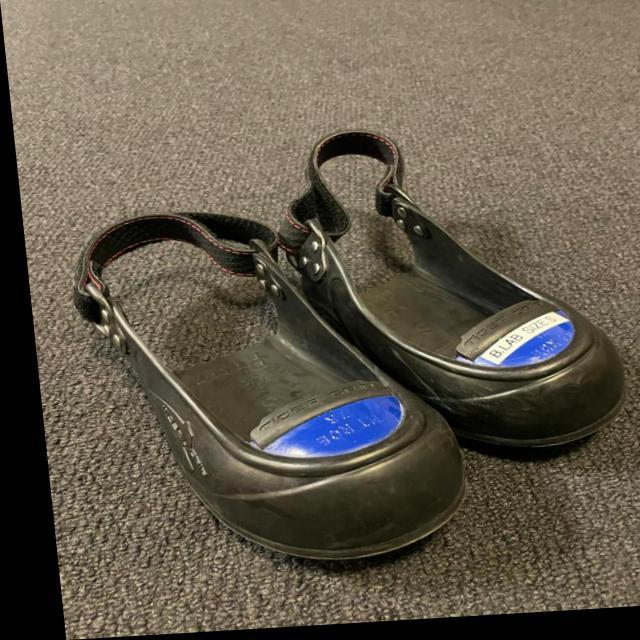shoes: (75, 215, 461, 564), (283, 130, 629, 458)
